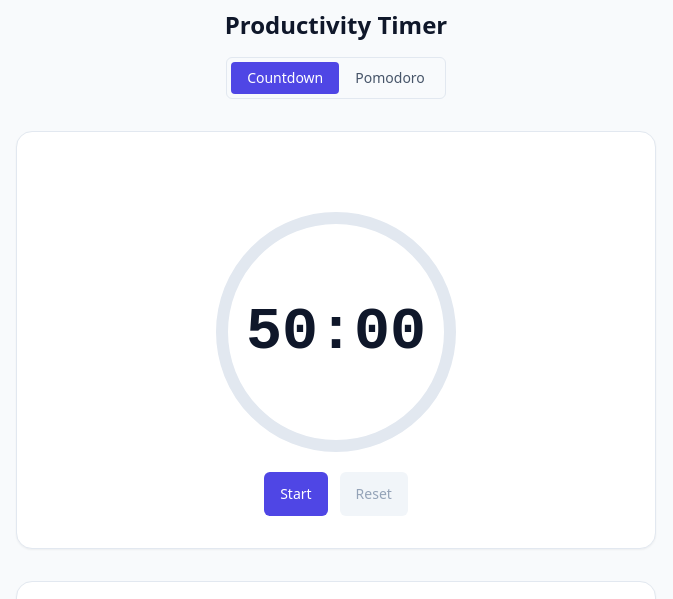
Test: Mode switching › resets a running timer and loads the new mode duration
Click the button "Start". click: click(296, 494)
box: [264,472,328,516]
Wait 250 ms
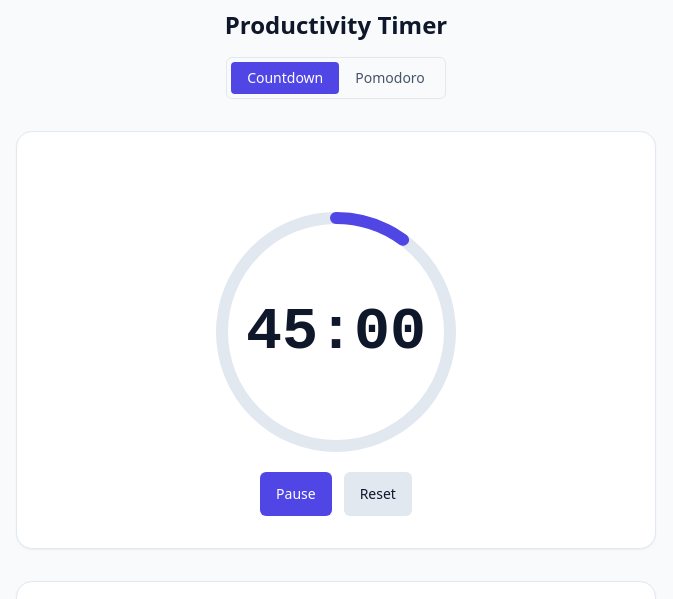
Click the radio button labelled "Pomodoro". click: click(390, 78)
box: [339,62,441,94]
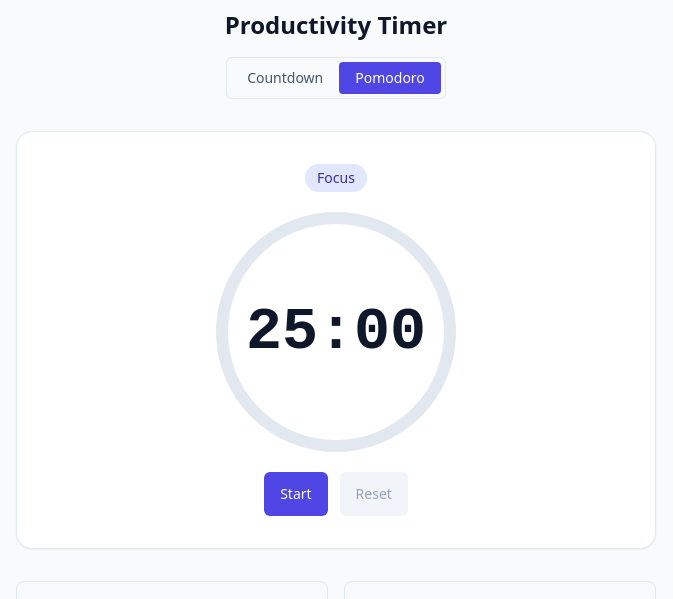
Expected: the text "25:00" is shown, [246,302,426,362]
Expected: the text "Focus" is shown, [305,164,367,192]
Expected: the button "Start" is shown, [264,472,328,516]
Click the radio button labelled "Countdown". click: click(285, 78)
box: [231,62,339,94]
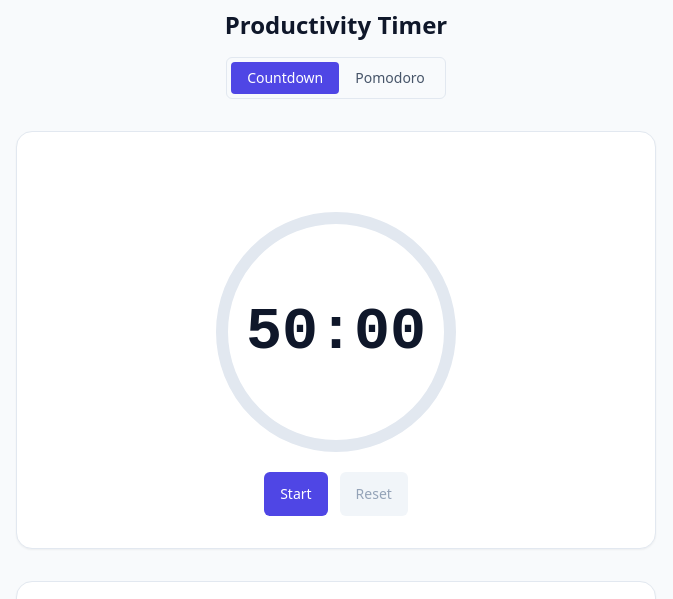
Expected: the text "50:00" is shown, [246,302,426,362]
